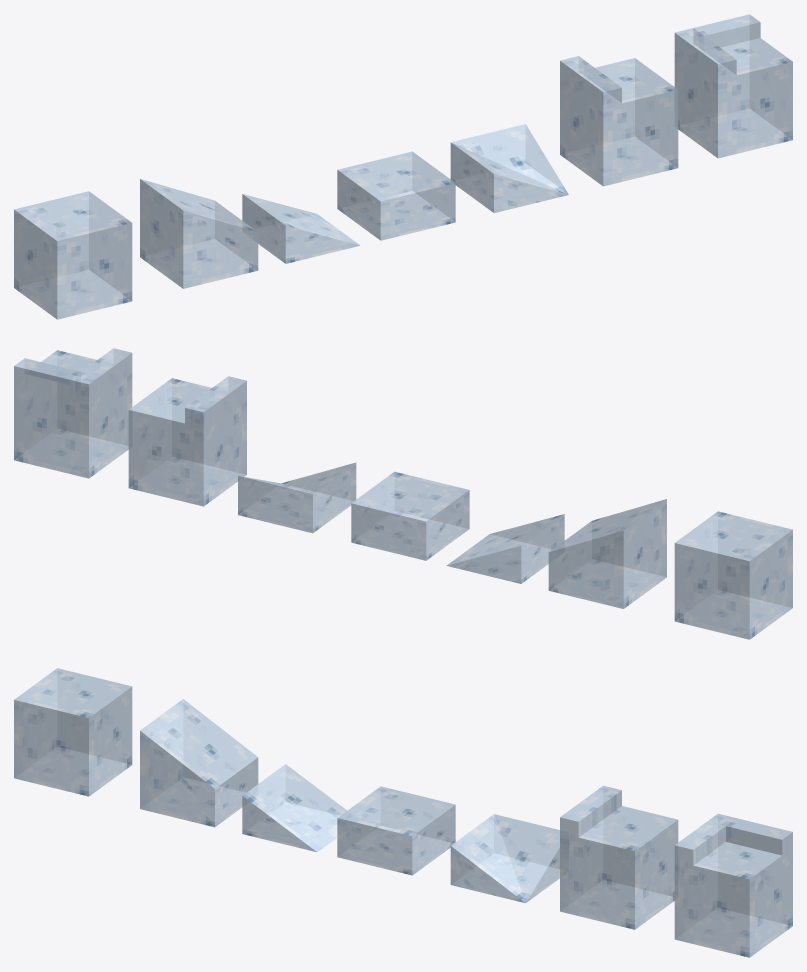
The model's file is Ice blocks.glb.
3 views of the same model, one above another, from view 1: azimuth 30°, elevation 25°; view 2: azimuth 150°, elevation 25°; view 3: azimuth 330°, elevation 25° (orthographic).
Visible parts, largest first — view 1: Ice block ledge corner, Ice block ledge, Ice block, Ice block Ramp top, Ice block short, Ice block Ramp corner, Ice block Ramp bottom; view 2: Ice block ledge corner, Ice block ledge, Ice block, Ice block Ramp top, Ice block short, Ice block Ramp corner, Ice block Ramp bottom; view 3: Ice block ledge corner, Ice block ledge, Ice block, Ice block Ramp top, Ice block short, Ice block Ramp corner, Ice block Ramp bottom.
Part boxes in pixels (x1=…): Ice block ledge corner: x1=674, y1=14, x2=792, y2=158; Ice block ledge: x1=560, y1=56, x2=678, y2=186; Ice block: x1=14, y1=191, x2=132, y2=319; Ice block Ramp top: x1=140, y1=179, x2=258, y2=288; Ice block short: x1=337, y1=151, x2=455, y2=240; Ice block Ramp corner: x1=450, y1=124, x2=568, y2=213; Ice block Ramp bottom: x1=242, y1=194, x2=360, y2=263; Ice block ledge corner: x1=14, y1=348, x2=132, y2=478; Ice block ledge: x1=128, y1=376, x2=246, y2=506; Ice block: x1=674, y1=511, x2=792, y2=639; Ice block Ramp top: x1=548, y1=499, x2=666, y2=608; Ice block short: x1=351, y1=471, x2=469, y2=560; Ice block Ramp corner: x1=238, y1=462, x2=356, y2=533; Ice block Ramp bottom: x1=446, y1=514, x2=564, y2=583; Ice block ledge corner: x1=674, y1=813, x2=792, y2=957; Ice block ledge: x1=560, y1=785, x2=678, y2=929; Ice block: x1=14, y1=668, x2=132, y2=796; Ice block Ramp top: x1=140, y1=699, x2=258, y2=827; Ice block short: x1=337, y1=786, x2=455, y2=875; Ice block Ramp corner: x1=450, y1=814, x2=559, y2=903; Ice block Ramp bottom: x1=242, y1=764, x2=347, y2=852.
Size of what is drawn, in the model's own units: 19.61 by 2.4 by 2.
7 materials, 7 textured.
